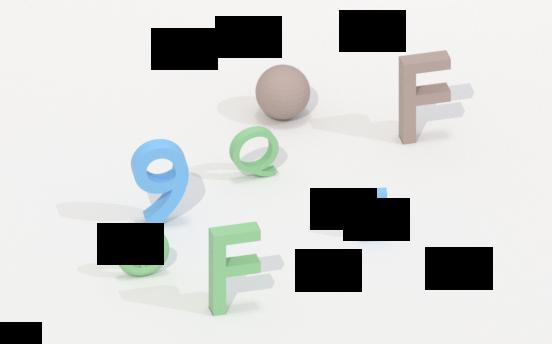5: (353, 187, 396, 245)
9: (128, 141, 192, 231)
F: (205, 221, 268, 318), (395, 48, 457, 146)
cau: (251, 66, 315, 121)
q: (225, 126, 284, 179)
tron: (112, 224, 177, 277)
